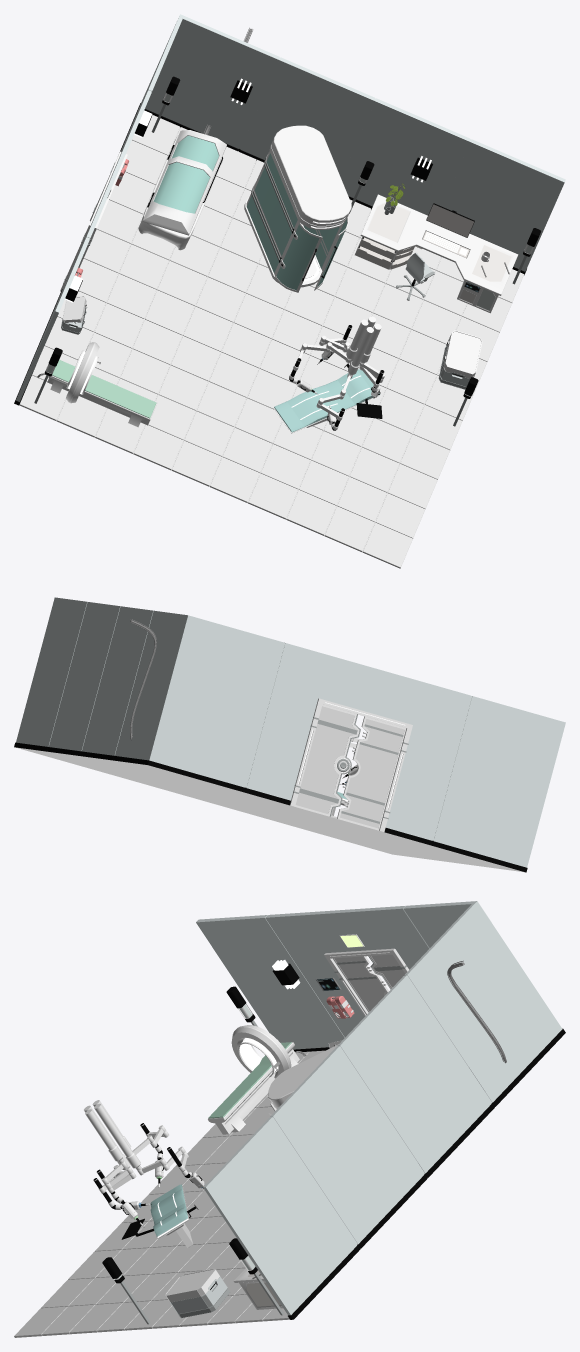
Rendered from Scifi_Medic_Cryo_Station.glb.
3 views of the same model, one above another, from view 1: azimuth 30°, elevation 25°; view 2: azimuth 150°, elevation 25°; view 3: azimuth 270°, elevation 25° (orthographic). The views are drawn at different scales.
Parts seen in each view (by area): view 1: Walls_Wall_0, AntiRad_Cabin_2_Plastic Standard Mat_0, Table_Plastic Standard Mat_0, AntiRad_Cabin_2, Klappe, Medi_Table_3_Fabric_Table_0, Klappe_Plastic Standard Mat_0, Ebene, Table_Creme Mat Bright_0, MediBank_Plastic Standard Mat_0, Door_right_2, MediBank (+81 smaller); view 2: Walls_Wall_0, Ebene, Door_left_Plastic Dark_0, Door_right_Plastic Dark_0, Walls_Metall Copper_0, Door_Frame_Plastic Standard Mat_0, Door_left_Plastic Standard Mat_0, Door_right, Door_right_Plastic Standard Mat_0, Door_left, Door_Frame; view 3: Walls_Wall_0, MediBank_Plastic Standard Mat_0, Walls_Metall Copper_0, AntiRad_Cabin_2_Plastic Standard Mat_0, Medi_Table_3_Fabric_Table_0, Door_left_Plastic Dark_0, Top_7_Plastic Standard Mat_0, MediBank, Door_Frame_Plastic Standard Mat_0, object 134, object 144, Bottom_7_Plastic Light Grey_0 (+24 smaller).
Boxes of the visible parts, x1,y1,x2,y2 form: Walls_Wall_0: (16,14,565,401); AntiRad_Cabin_2_Plastic Standard Mat_0: (244,125,351,287); Table_Plastic Standard Mat_0: (355,194,518,313); AntiRad_Cabin_2: (246,153,345,281); Klappe: (153,135,218,213); Medi_Table_3_Fabric_Table_0: (274,369,380,432); Klappe_Plastic Standard Mat_0: (142,130,226,235); Ebene: (56,128,467,552); Table_Creme Mat Bright_0: (368,202,511,303); MediBank_Plastic Standard Mat_0: (47,342,157,427); Door_right_2: (276,219,346,290); MediBank: (48,360,156,418); Walls_Wall_0: (16,597,565,867); Ebene: (15,747,524,872); Door_left_Plastic Dark_0: (340,719,404,828); Door_right_Plastic Dark_0: (295,706,356,813); Walls_Metall Copper_0: (14,742,527,872); Door_Frame_Plastic Standard Mat_0: (290,698,412,831); Door_left_Plastic Standard Mat_0: (337,716,406,830); Door_right: (299,714,360,816); Door_right_Plastic Standard Mat_0: (295,704,359,816); Door_left: (341,724,403,823); Door_Frame: (293,702,408,819); Walls_Wall_0: (196,901,562,1315); MediBank_Plastic Standard Mat_0: (208,1025,299,1134); Walls_Metall Copper_0: (288,1028,565,1319); AntiRad_Cabin_2_Plastic Standard Mat_0: (268,1044,338,1109); Medi_Table_3_Fabric_Table_0: (150,1184,187,1236); Door_left_Plastic Dark_0: (334,956,385,1011); Top_7_Plastic Standard Mat_0: (165,1268,219,1302); MediBank: (208,1039,291,1118); Door_Frame_Plastic Standard Mat_0: (324,948,408,1016); object 134: (14,1306,67,1337); object 144: (41,1304,95,1335); Bottom_7_Plastic Light Grey_0: (169,1276,227,1313).
Size of what is drawn, in the model's own units: 1417 by 1052 by 1214.
Materials: 35 (2 with a texture image).
